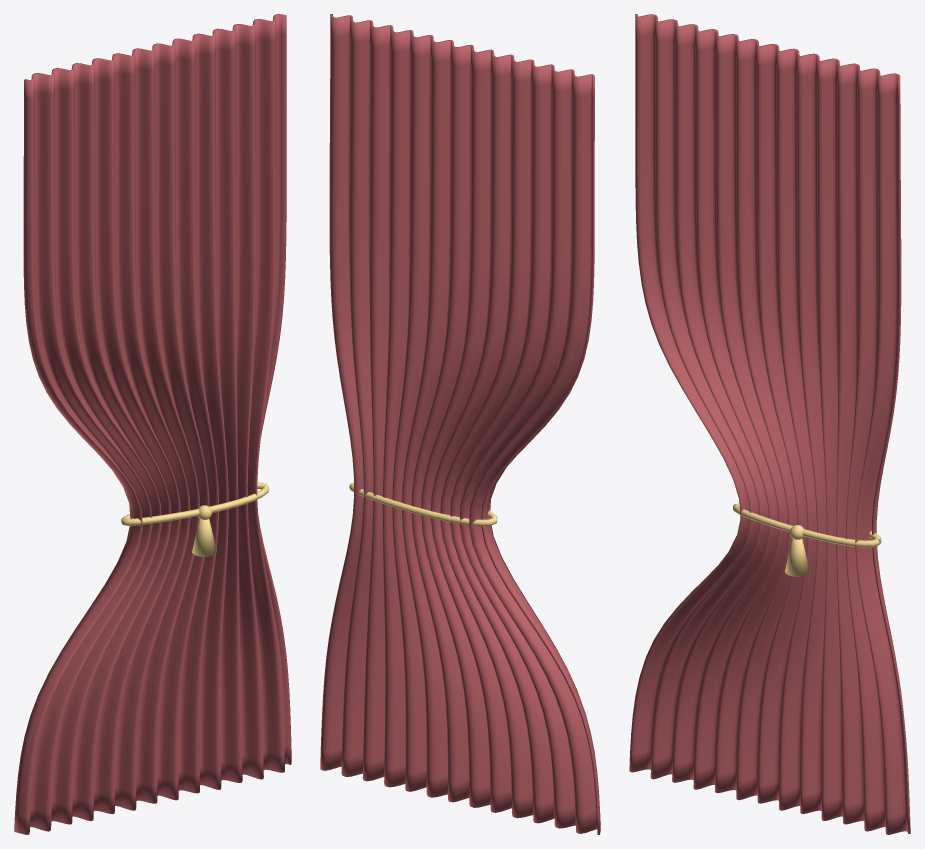
Rendered from drape_r.glb.
The picture shows the model from 3 angles, left to right: view 1: azimuth 30°, elevation 25°; view 2: azimuth 150°, elevation 25°; view 3: azimuth 330°, elevation 25°; orthographic projection.
Visible parts, largest first — view 1: drape_r; view 2: drape_r; view 3: drape_r.
Part boxes in pixels (x1,y1,x2,y2): drape_r: (14, 14, 291, 834); drape_r: (320, 14, 600, 834); drape_r: (629, 14, 910, 834).
Bounding box in the file's own units: 6.39 × 16.52 × 1.04.
